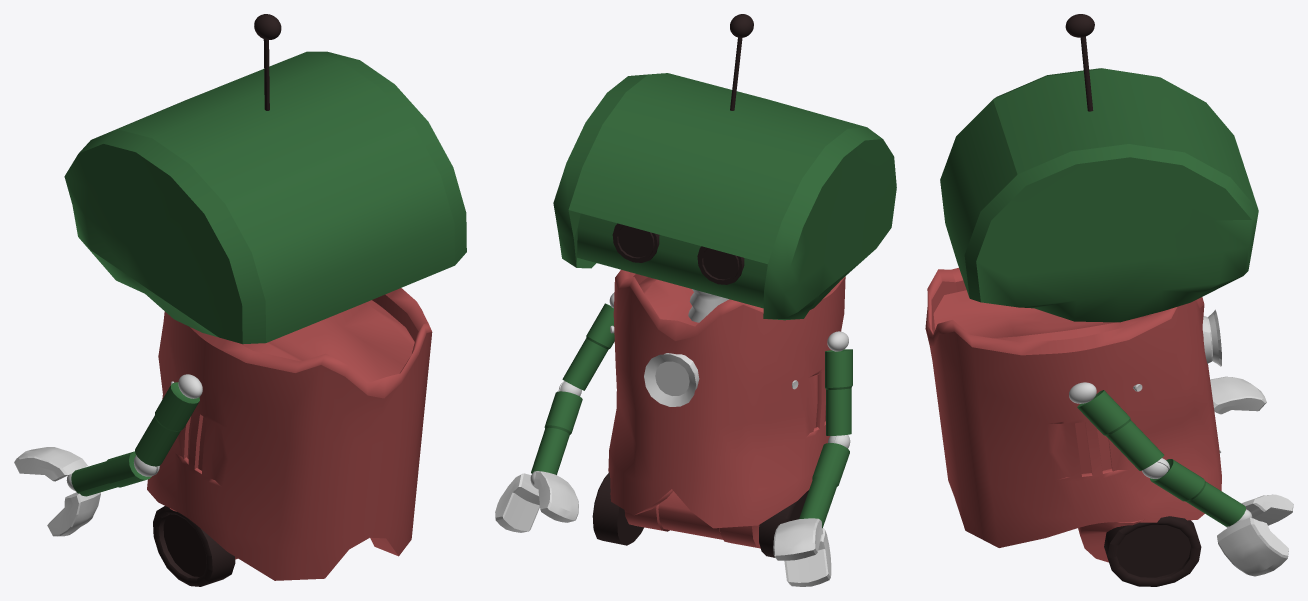
Rendered from SameGame1.fbx.
The picture shows the model from 3 angles, left to right: view 1: azimuth 30°, elevation 25°; view 2: azimuth 150°, elevation 25°; view 3: azimuth 270°, elevation 25°; orthographic projection. The views are drawn at different scales.
Visible parts, largest first — view 1: polySurface2, Chest, Wheels_1, RightArm4, RightArm5, RightHand_3, RightHand_4, AntinaBall; view 2: polySurface2, Chest, Hips2, Scanner, RightArm4, RightArm8, RightArm5, RightArm9, RightHand_5, Wheels_2, RightHand_3, RightHand_6 (+5 smaller); view 3: polySurface2, Chest, Wheels_2, RightHand_5, RightArm9, RightArm8, RightHand_3, RightHand_6, Hips2, Scanner, AntinaBall, LeftHand4.
Boxes of the visible parts, bbox=[...] form: polySurface2: bbox=[64, 51, 466, 344]; Chest: bbox=[147, 288, 432, 580]; Wheels_1: bbox=[153, 506, 235, 586]; RightArm4: bbox=[135, 382, 199, 466]; RightArm5: bbox=[71, 451, 151, 496]; RightHand_3: bbox=[14, 447, 87, 481]; RightHand_4: bbox=[47, 492, 100, 536]; AntinaBall: bbox=[254, 14, 281, 39]; polySurface2: bbox=[553, 73, 896, 320]; Chest: bbox=[608, 269, 845, 528]; Hips2: bbox=[624, 491, 760, 548]; Scanner: bbox=[644, 353, 699, 406]; RightArm4: bbox=[825, 349, 852, 435]; RightArm8: bbox=[531, 391, 582, 474]; RightArm5: bbox=[799, 443, 849, 528]; RightArm9: bbox=[562, 303, 614, 390]; RightHand_5: bbox=[495, 473, 539, 532]; Wheels_2: bbox=[592, 472, 643, 545]; RightHand_3: bbox=[773, 518, 823, 560]; RightHand_6: bbox=[534, 471, 578, 522]; polySurface2: bbox=[940, 68, 1258, 322]; Chest: bbox=[925, 267, 1221, 547]; Wheels_2: bbox=[1104, 516, 1201, 586]; RightHand_5: bbox=[1217, 517, 1288, 576]; RightArm9: bbox=[1077, 390, 1164, 470]; RightArm8: bbox=[1150, 459, 1245, 526]; RightHand_3: bbox=[1210, 376, 1266, 414]; RightHand_6: bbox=[1226, 494, 1293, 527]; Hips2: bbox=[1078, 520, 1142, 562]; Scanner: bbox=[1202, 309, 1221, 366]; AntinaBall: bbox=[1065, 14, 1094, 37]; LeftHand4: bbox=[1069, 382, 1096, 403].
Size of the model in its own units: 54.7 by 89.48 by 56.79.
